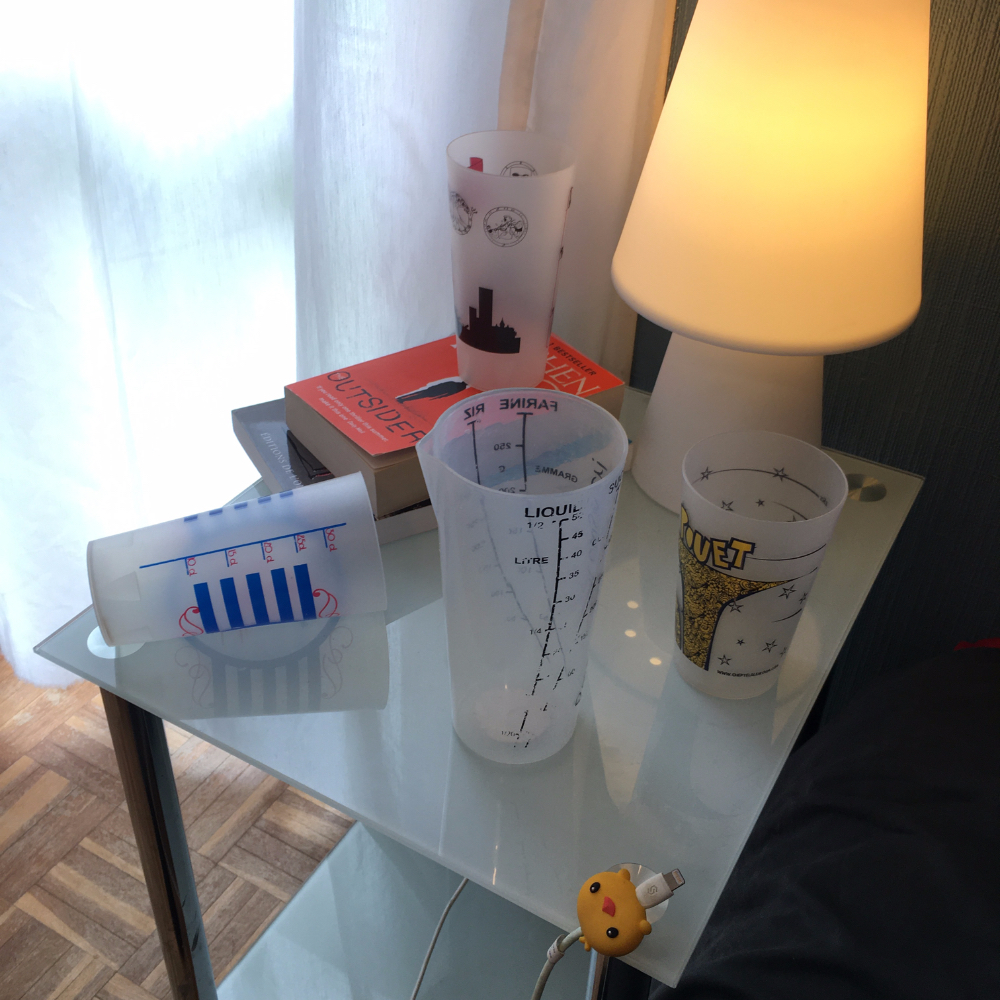ecocup: (85, 471, 387, 648), (674, 430, 848, 699), (447, 130, 576, 390)
